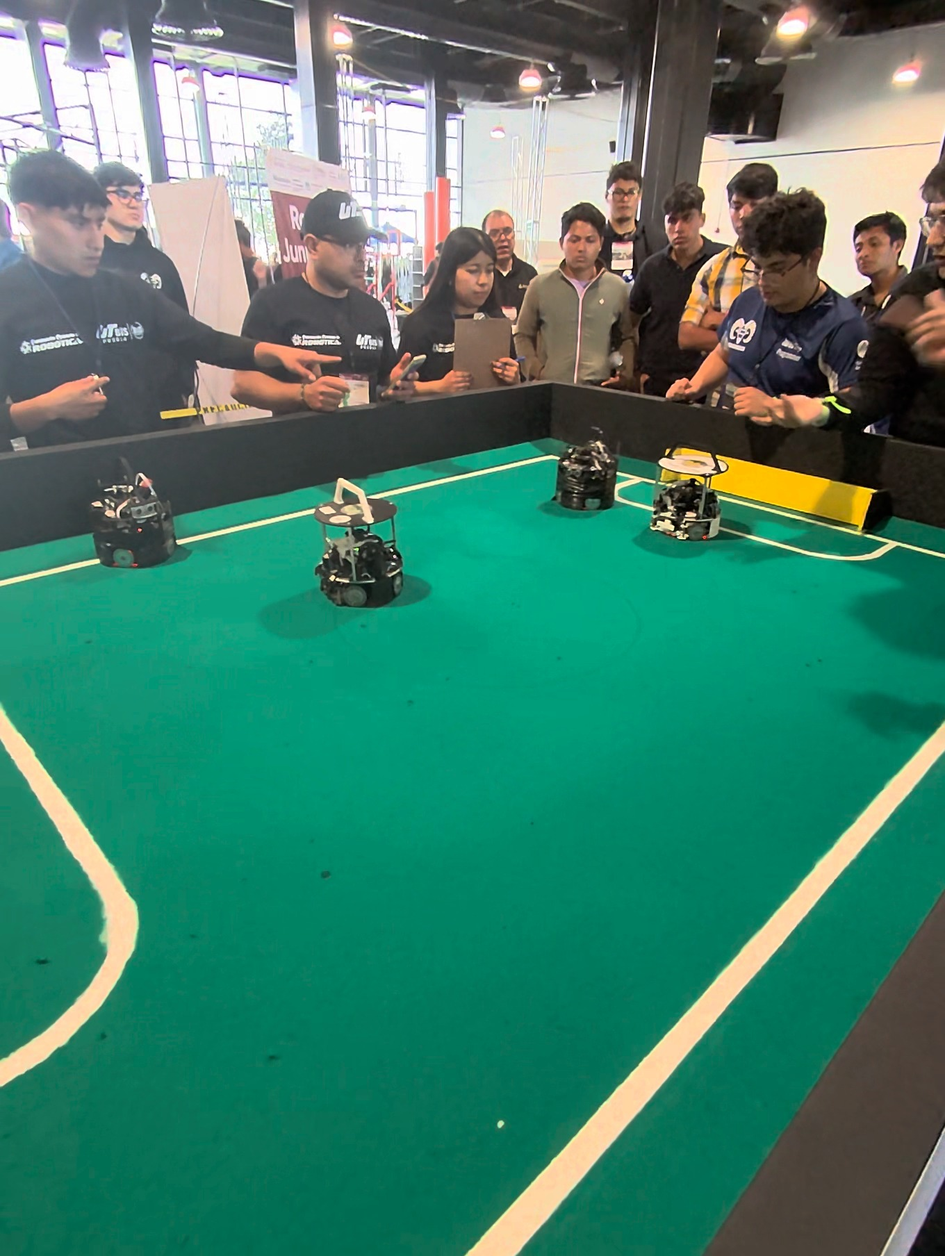Robot: (315, 483, 411, 620), (88, 454, 182, 571), (647, 440, 723, 552), (552, 428, 619, 519)
